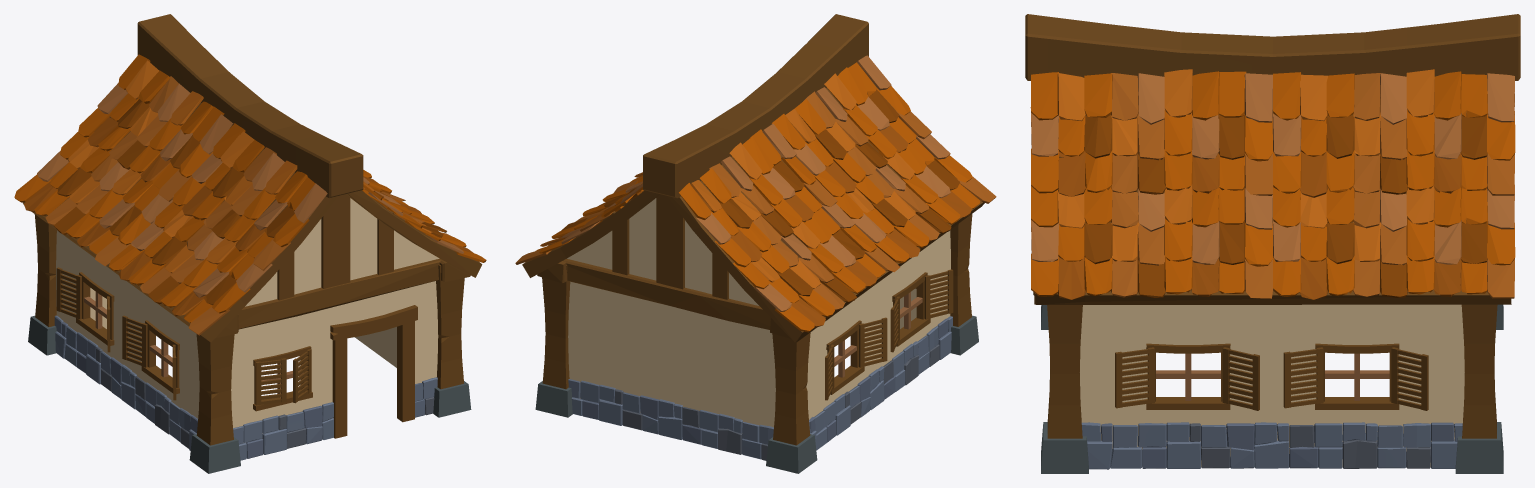
File: House_01.fbx
3 renders of one model, left to right at view 1: azimuth 30°, elevation 25°; view 2: azimuth 150°, elevation 25°; view 3: azimuth 270°, elevation 25°, orthographic. The views are drawn at different scales.
Parts seen in each view (by area): view 1: House_01; view 2: House_01; view 3: House_01.
Part boxes in pixels (bbox=[...]): House_01: bbox=[14, 14, 486, 473]; House_01: bbox=[515, 14, 996, 473]; House_01: bbox=[1025, 14, 1520, 473].
Size of the model in its own units: 587 by 546 by 665.
